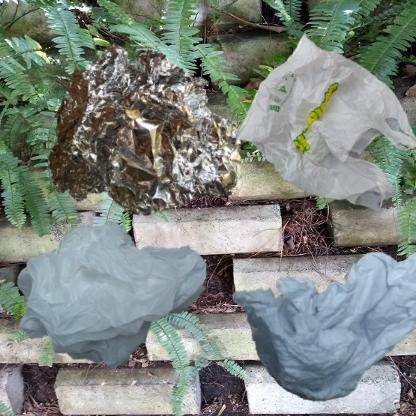aluminio: (10, 10, 281, 278)
bolsa: (213, 10, 416, 252), (10, 213, 219, 380)
papel: (213, 213, 416, 416)
